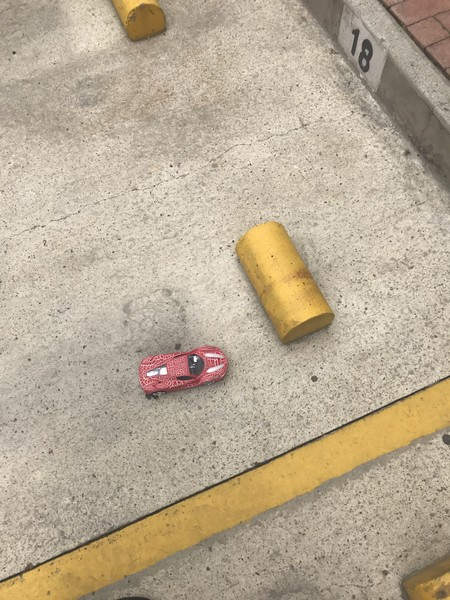RC: (137, 344, 229, 396)
